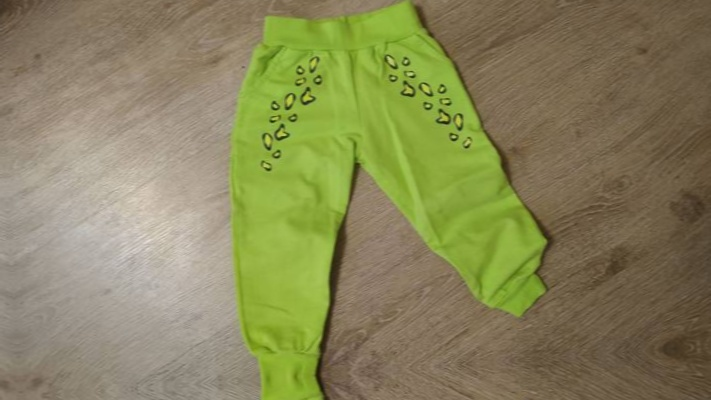Pants: (177, 0, 562, 384), (205, 358, 590, 400)
